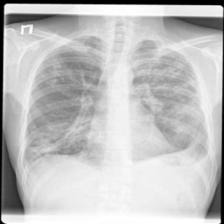tuberculosis: (15, 28, 214, 177)
